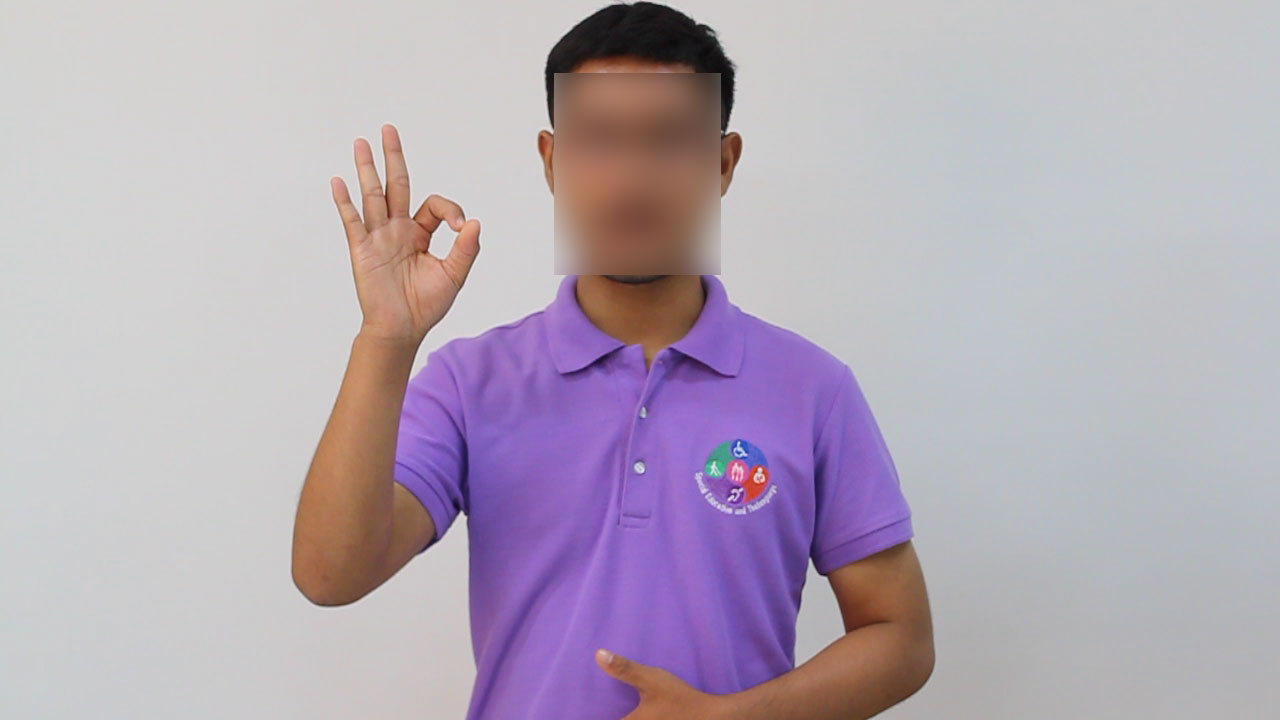for: (324, 115, 488, 366)
